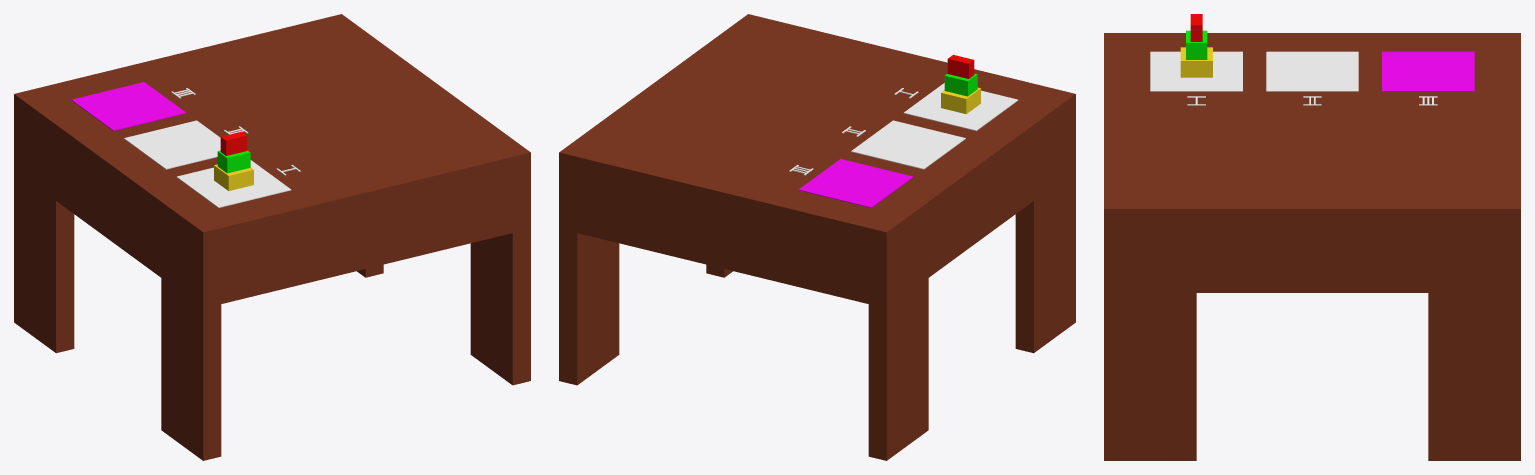
File: env.dae
The picture shows the model from 3 angles, left to right: view 1: azimuth 30°, elevation 25°; view 2: azimuth 150°, elevation 25°; view 3: azimuth 270°, elevation 25°; orthographic projection. The views are drawn at different scales.
Visible parts, largest first — view 1: base (×10); view 2: base (×10); view 3: base (×8).
Part boxes in pixels (<box>): base (×10): <box>14,14,530,460</box>; base (×10): <box>559,14,1075,460</box>; base (×8): <box>1104,30,1520,460</box>.
Bounding box in the file's own units: 0.9 × 0.9 × 0.725.
